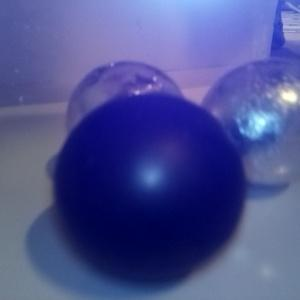alive_ball: (66, 60, 186, 177), (198, 56, 300, 186)
dead_ball: (53, 93, 247, 283)
